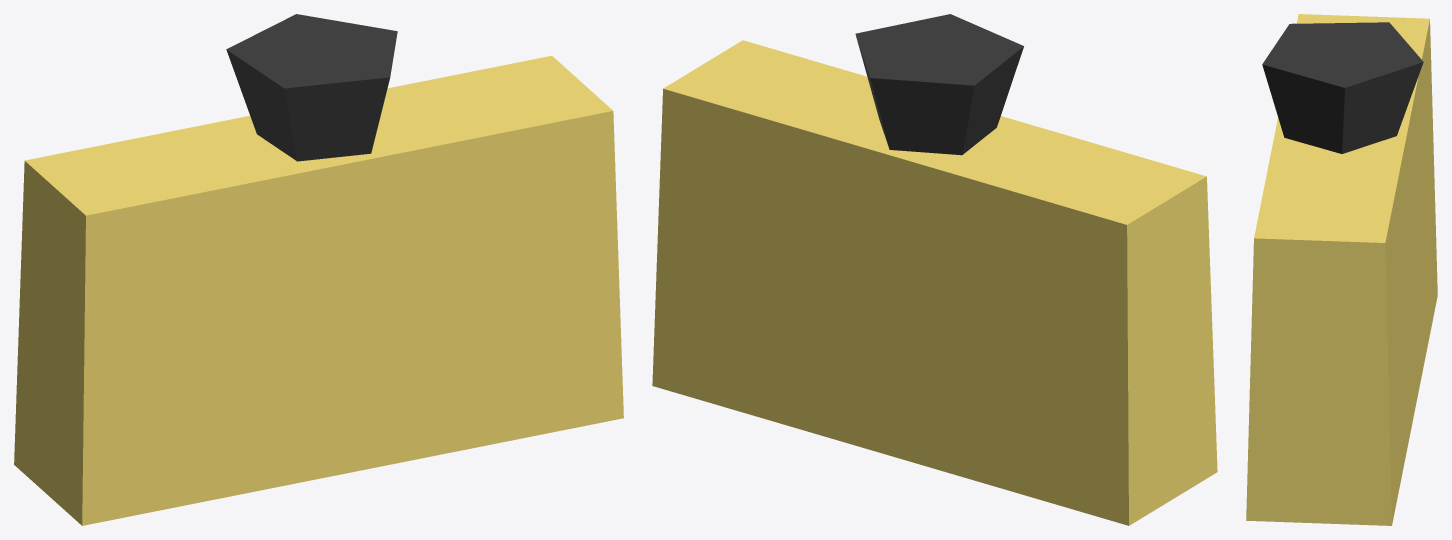
The model's file is vial_2.fbx.
The picture shows the model from 3 angles, left to right: view 1: azimuth 30°, elevation 25°; view 2: azimuth 150°, elevation 25°; view 3: azimuth 270°, elevation 25°; orthographic projection. The views are drawn at different scales.
Parts seen in each view (by area): view 1: vial_2; view 2: vial_2; view 3: vial_2.
Part boxes in pixels (box(x1,y1,x2,y2)): vial_2: box(14, 14, 623, 525); vial_2: box(652, 14, 1217, 525); vial_2: box(1246, 14, 1437, 525).
Size of the model in its own units: 17.3 by 5.95 by 12.19.
